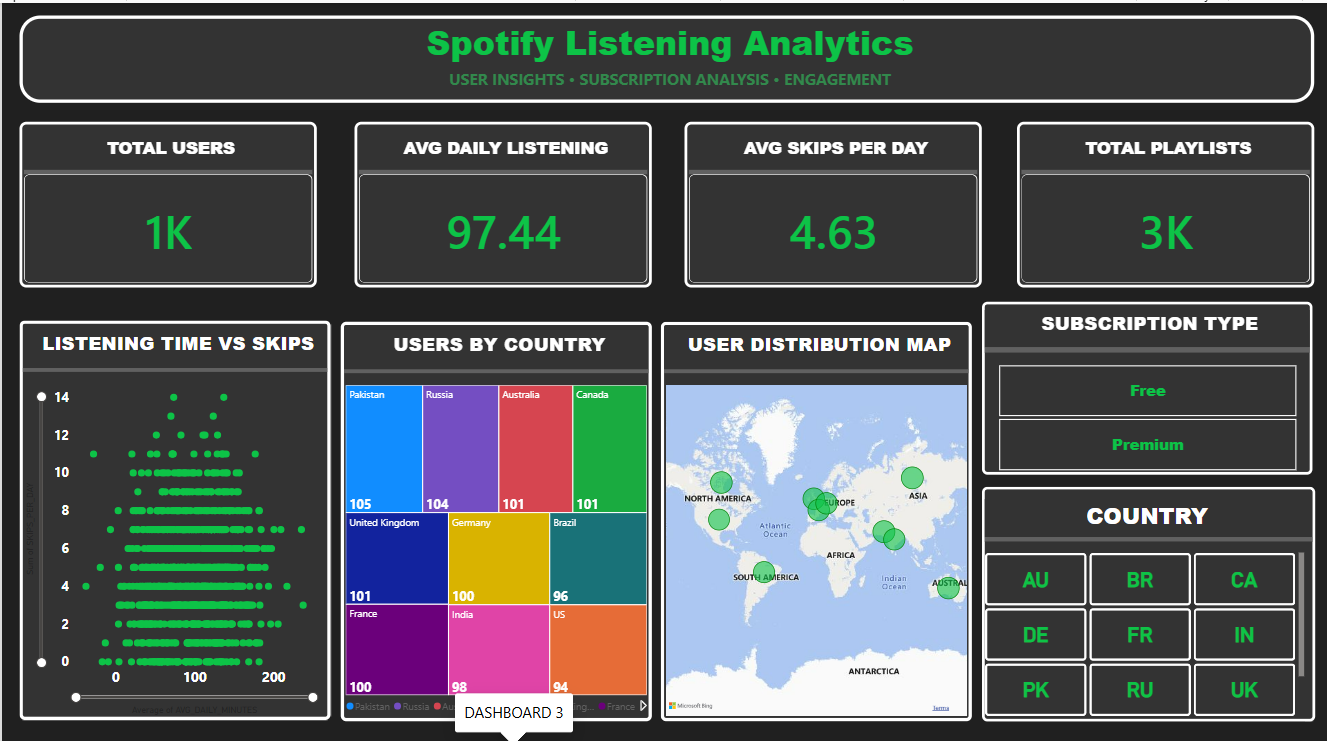

What the dashboard file says about the page in this screenshot:
{"tool":"powerbi","page":{"name":"DASHBOARD 3","canvas":[1920,1080],"ordinal":2},"visuals":[{"type":"cardVisual","title":"TOTAL USERS","fields":{"Data":["CountNonNull(spotify_churn_dataset.USER_ID)"]},"box":[26,172,430,240],"z":0},{"type":"map","title":"USER DISTRIBUTION MAP","fields":{"Category":["spotify_churn_dataset.Country Name"],"Size":["CountNonNull(spotify_churn_dataset.USER_ID)"]},"box":[954,462,450,578],"z":1000},{"type":"treemap","title":"USERS BY COUNTRY","fields":{"Group":["spotify_churn_dataset.Country Name"],"Values":["CountNonNull(spotify_churn_dataset.USER_ID)"]},"box":[490,462,450,578],"z":2000},{"type":"textbox","title":"Spotify Listening Analytics","box":[26,18,1874,126],"z":3000},{"type":"advancedSlicerVisual","fields":{"Values":["spotify_churn_dataset.COUNTRY"]},"box":[1418,700,482,340],"z":4000},{"type":"slicer","title":"SUBSCRIPTION TYPE","fields":{"Values":["spotify_churn_dataset.SUBSCRIPTION_TYPE"]},"box":[1418,433,478,250],"z":5000},{"type":"scatterChart","title":"LISTENING TIME VS SKIPS","fields":{"Category":["spotify_churn_dataset.USER_ID"],"X":["Avg(spotify_churn_dataset.AVG_DAILY_MINUTES)"],"Y":["Sum(spotify_churn_dataset.SKIPS_PER_DAY)"]},"box":[26,460,450,578],"z":6000},{"type":"cardVisual","title":"AVG DAILY LISTENING","fields":{"Data":["Avg(spotify_churn_dataset.AVG_DAILY_MINUTES)"]},"box":[510,172,430,240],"z":7000},{"type":"cardVisual","title":"AVG SKIPS PER DAY","fields":{"Data":["Avg(spotify_churn_dataset.SKIPS_PER_DAY)"]},"box":[988,172,430,240],"z":8000},{"type":"cardVisual","title":"TOTAL PLAYLISTS","fields":{"Data":["Sum(spotify_churn_dataset.NUMBER_OF_PLAYLISTS)"]},"box":[1470,172,430,240],"z":9000}]}

Visuals, with their boxes in screenshot pixels (x1, y1, x2, y2), scaled from the page's 1920x1080 canvas onto the 1327x741 screenshot:
"TOTAL USERS" cardVisual: <region>18, 118, 315, 283</region>
"USER DISTRIBUTION MAP" map: <region>659, 317, 970, 714</region>
"USERS BY COUNTRY" treemap: <region>339, 317, 650, 714</region>
"Spotify Listening Analytics" textbox: <region>18, 12, 1313, 99</region>
advancedSlicerVisual - spotify_churn_dataset.COUNTRY: <region>980, 480, 1313, 714</region>
"SUBSCRIPTION TYPE" slicer: <region>980, 297, 1310, 469</region>
"LISTENING TIME VS SKIPS" scatterChart: <region>18, 316, 329, 712</region>
"AVG DAILY LISTENING" cardVisual: <region>352, 118, 650, 283</region>
"AVG SKIPS PER DAY" cardVisual: <region>683, 118, 980, 283</region>
"TOTAL PLAYLISTS" cardVisual: <region>1016, 118, 1313, 283</region>
